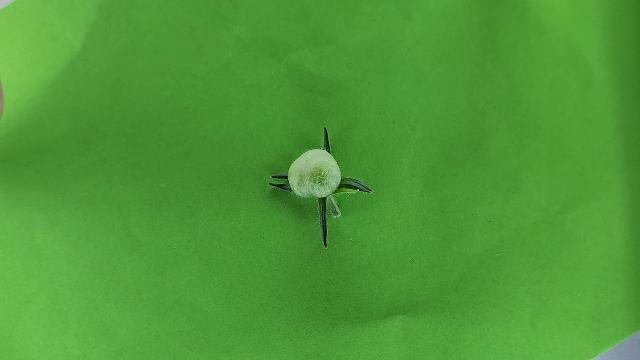Fruit Maturation: (287, 148, 343, 199)
